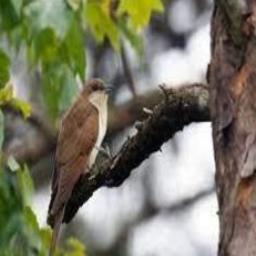Cuckoo: (43, 77, 114, 256)
